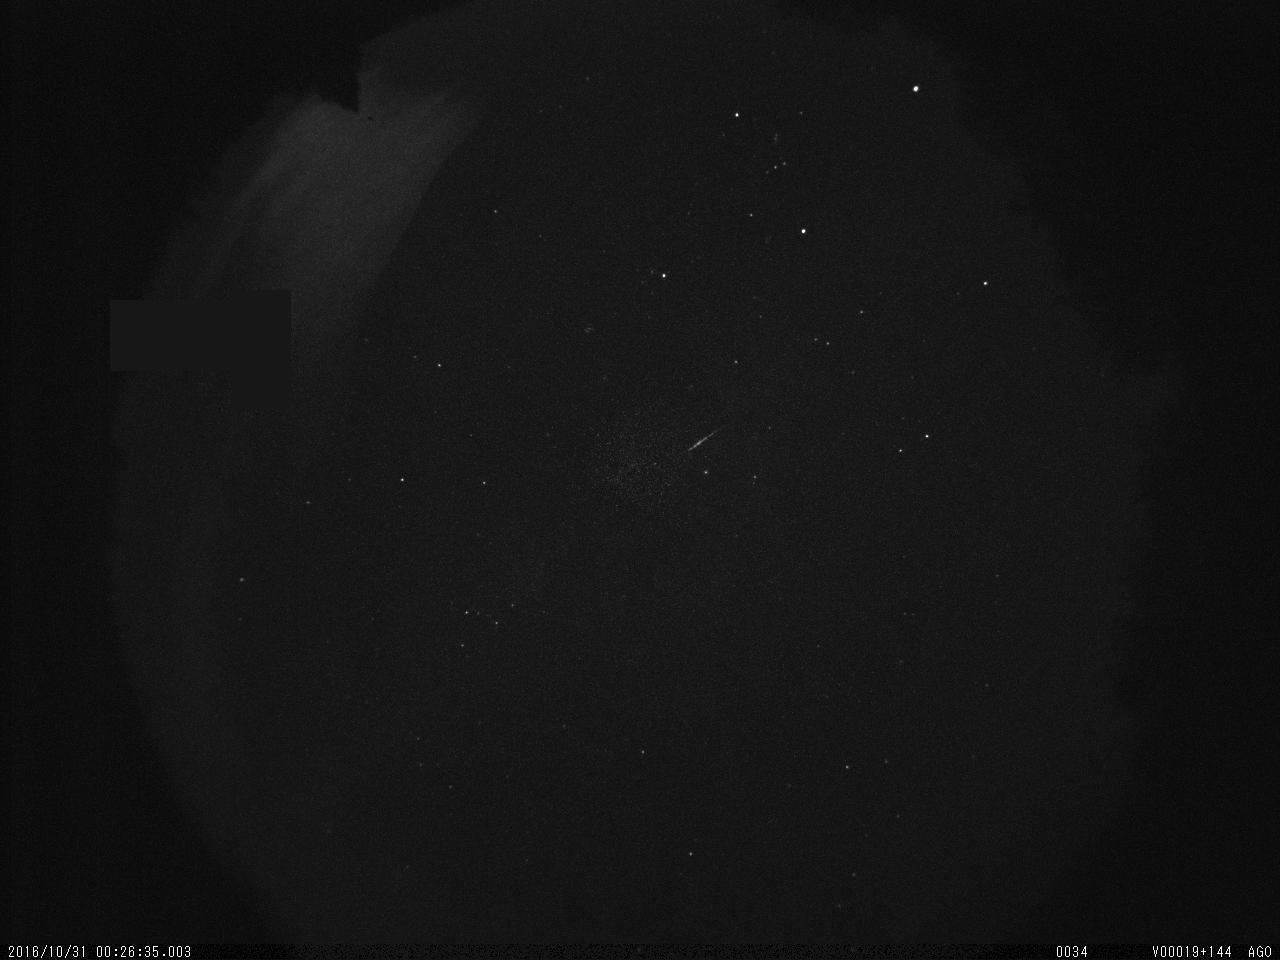meteor: (676, 411, 748, 477)
